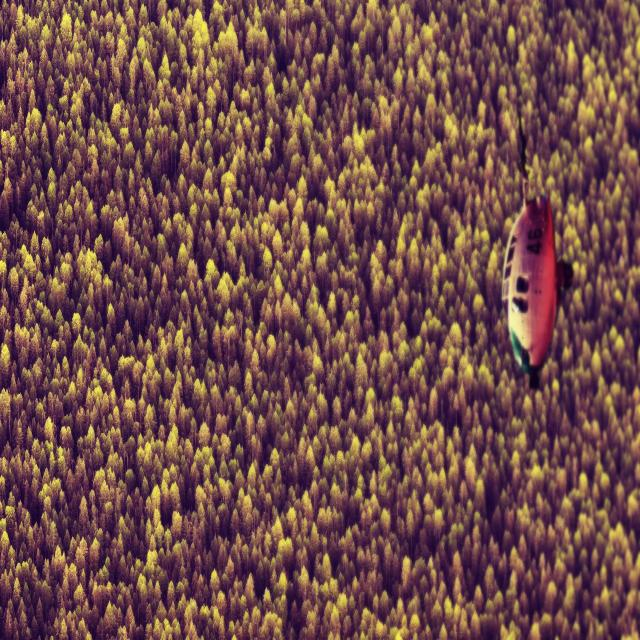airplane: (500, 111, 574, 389)
